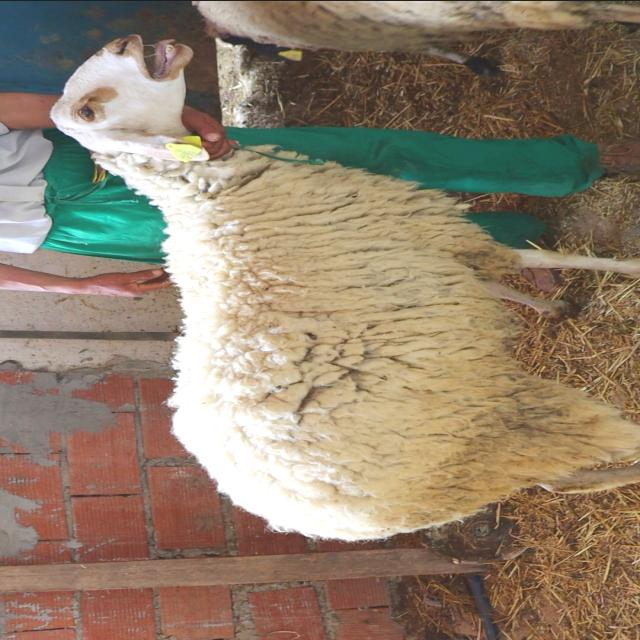Score_4: (51, 34, 639, 541)
